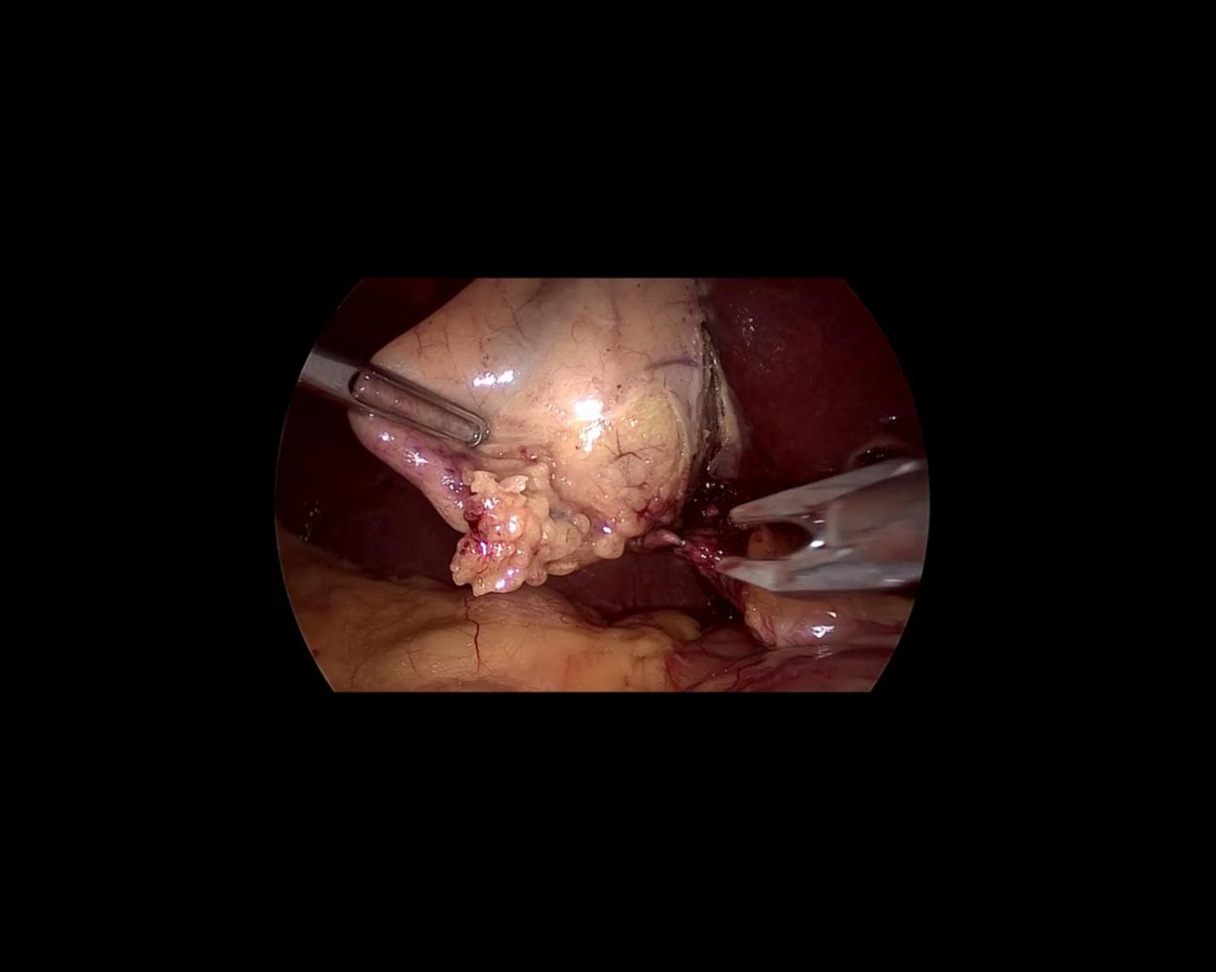Forceps: (295, 341, 494, 467)
Gallbladder: (323, 209, 774, 625)
Liver: (192, 226, 715, 782), (693, 241, 926, 502)
